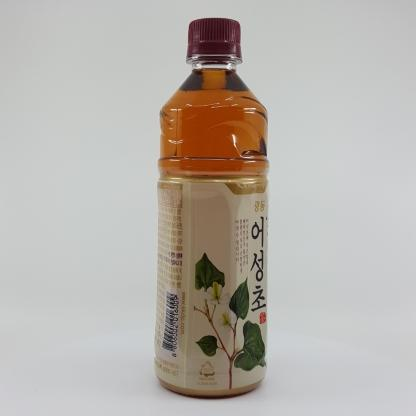--------500ml: (154, 18, 269, 399)
